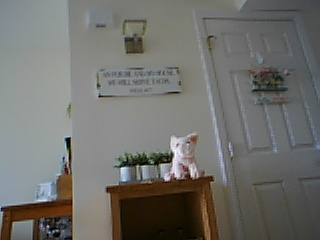piggy: (164, 130, 205, 180)
